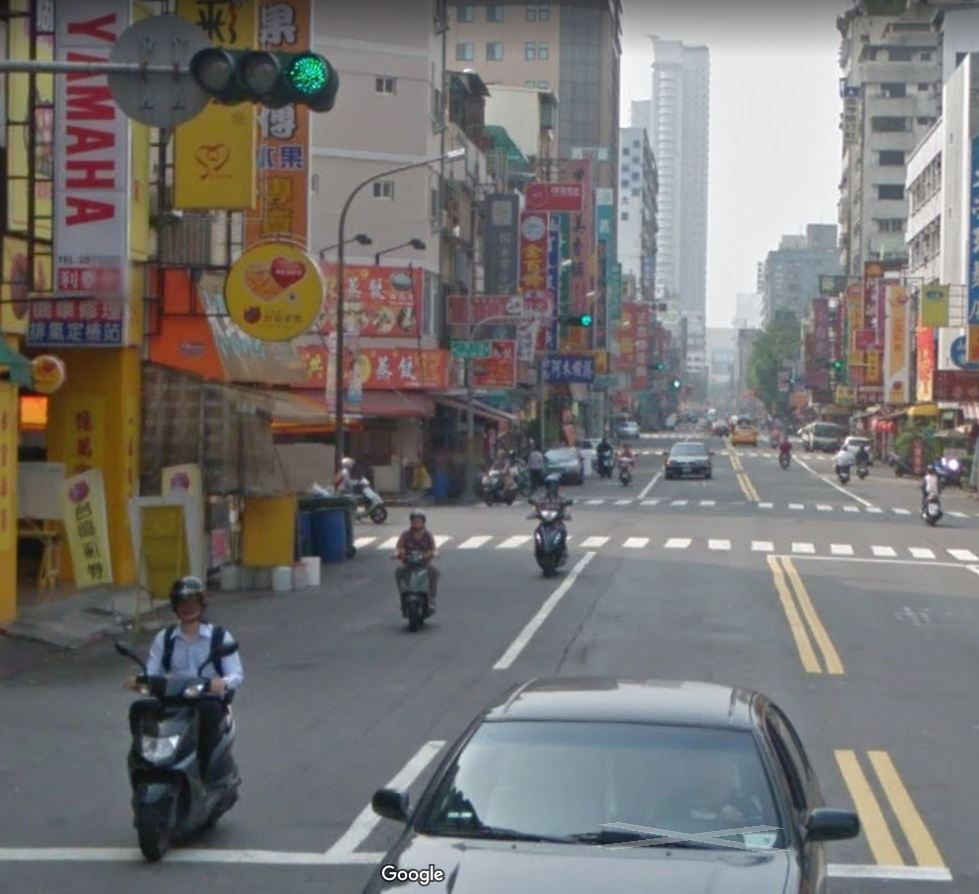Traffic_light_green: (192, 37, 343, 117)
car: (663, 437, 716, 483)
motorcycle: (107, 645, 258, 856), (385, 542, 445, 632), (522, 497, 579, 583)
